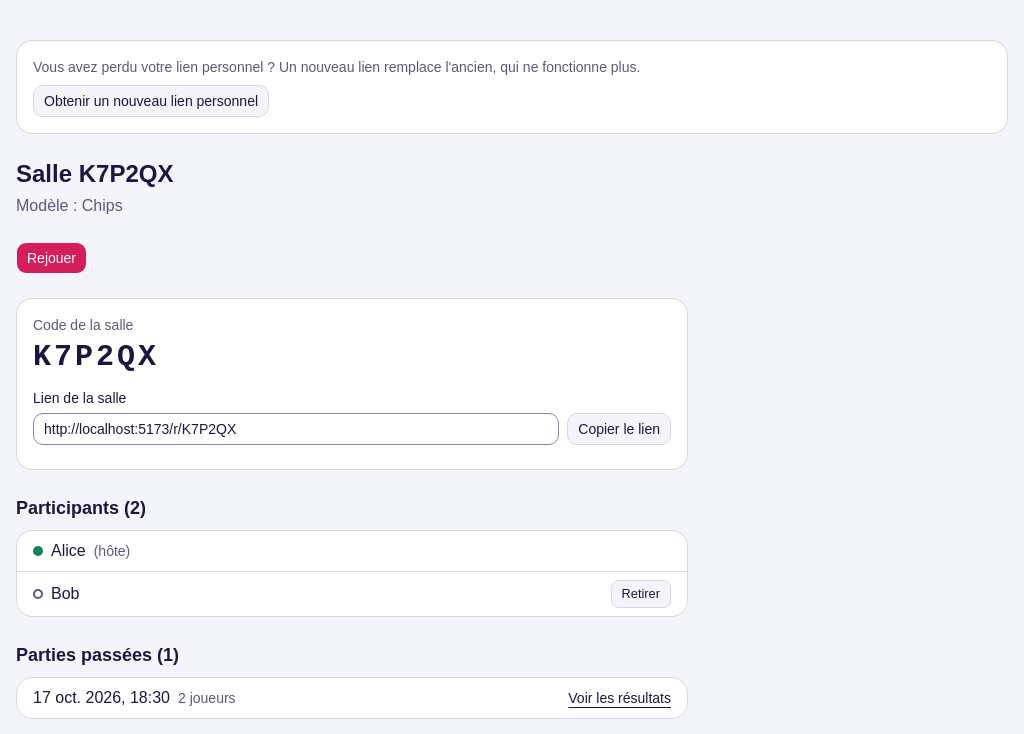
Test: StartGameButton › says play again once the room has a past game, and starts the next game
Click the button "Rejouer" at (52, 258), box top-left (16, 242), bottom-right (87, 274)
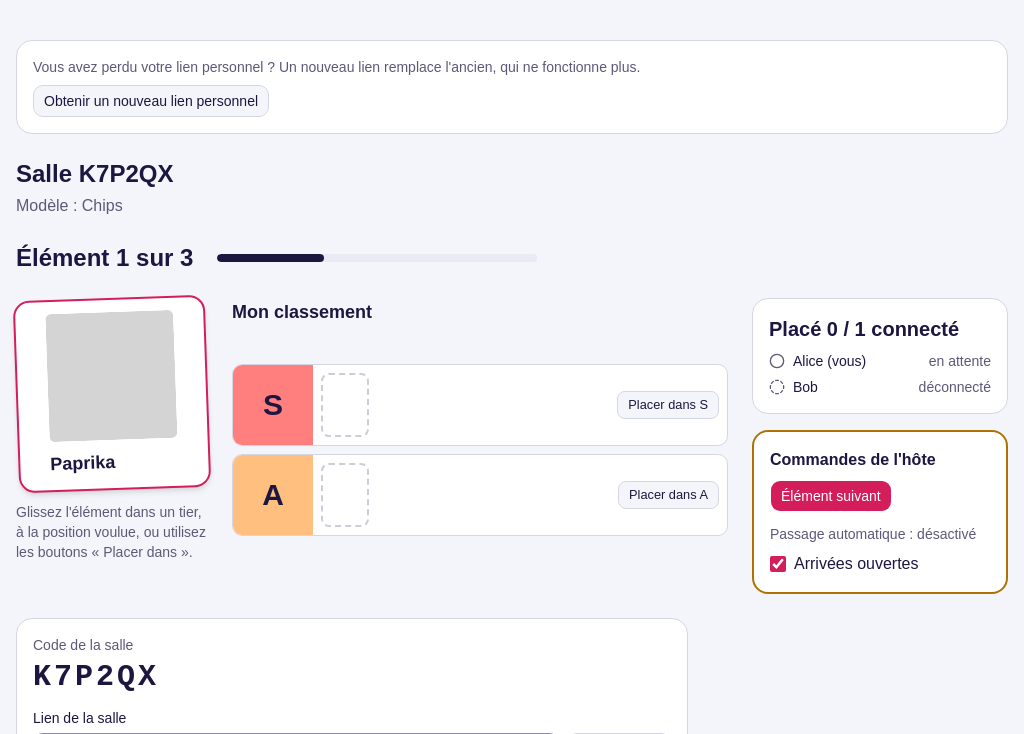
Result: the text "Élément 1 sur 3" is shown at top-left (16, 242), bottom-right (193, 274)
